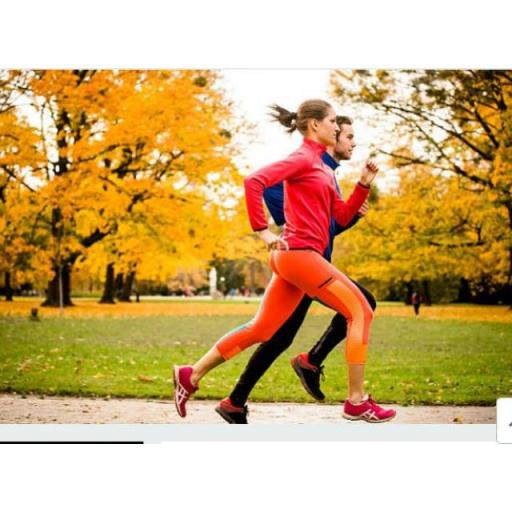Running: (175, 99, 395, 423)
